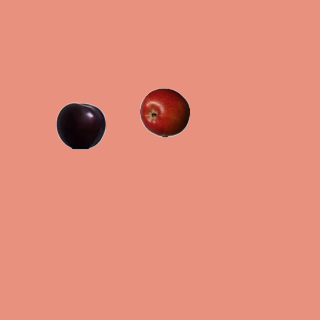Apple Braeburn: (139, 87, 189, 137)
Cherry Wax Black: (55, 100, 105, 150)
